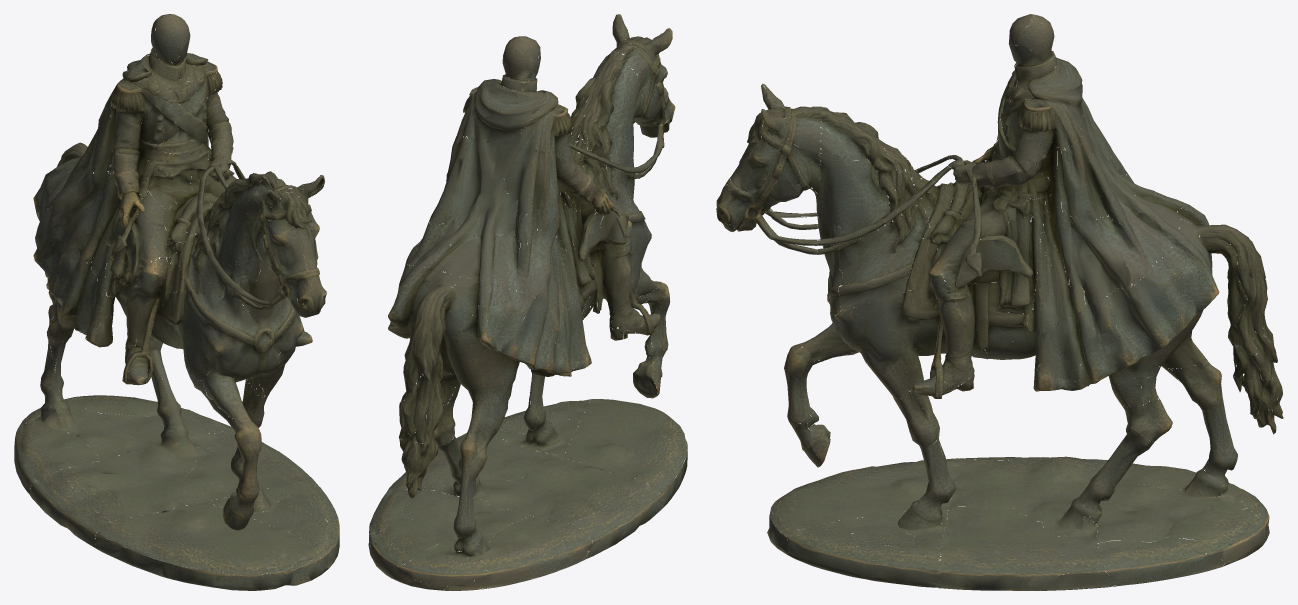
Rendered from h_equestrian.glb.
3 views of the same model, side by side, from view 1: azimuth 30°, elevation 25°; view 2: azimuth 150°, elevation 25°; view 3: azimuth 270°, elevation 25° (orthographic). The views are drawn at different scales.
Visible parts, largest first — view 1: tripo_node_d4eab14e-56be-4328-8037-11e66e02383e; view 2: tripo_node_d4eab14e-56be-4328-8037-11e66e02383e; view 3: tripo_node_d4eab14e-56be-4328-8037-11e66e02383e.
Part boxes in pixels (x1,y1,x2,y2): tripo_node_d4eab14e-56be-4328-8037-11e66e02383e: [14, 14, 339, 590]; tripo_node_d4eab14e-56be-4328-8037-11e66e02383e: [368, 14, 687, 590]; tripo_node_d4eab14e-56be-4328-8037-11e66e02383e: [716, 14, 1283, 590].
Size of the model in its own units: 0.4917 by 1 by 0.9949.
Materials: 1 (1 with a texture image).
